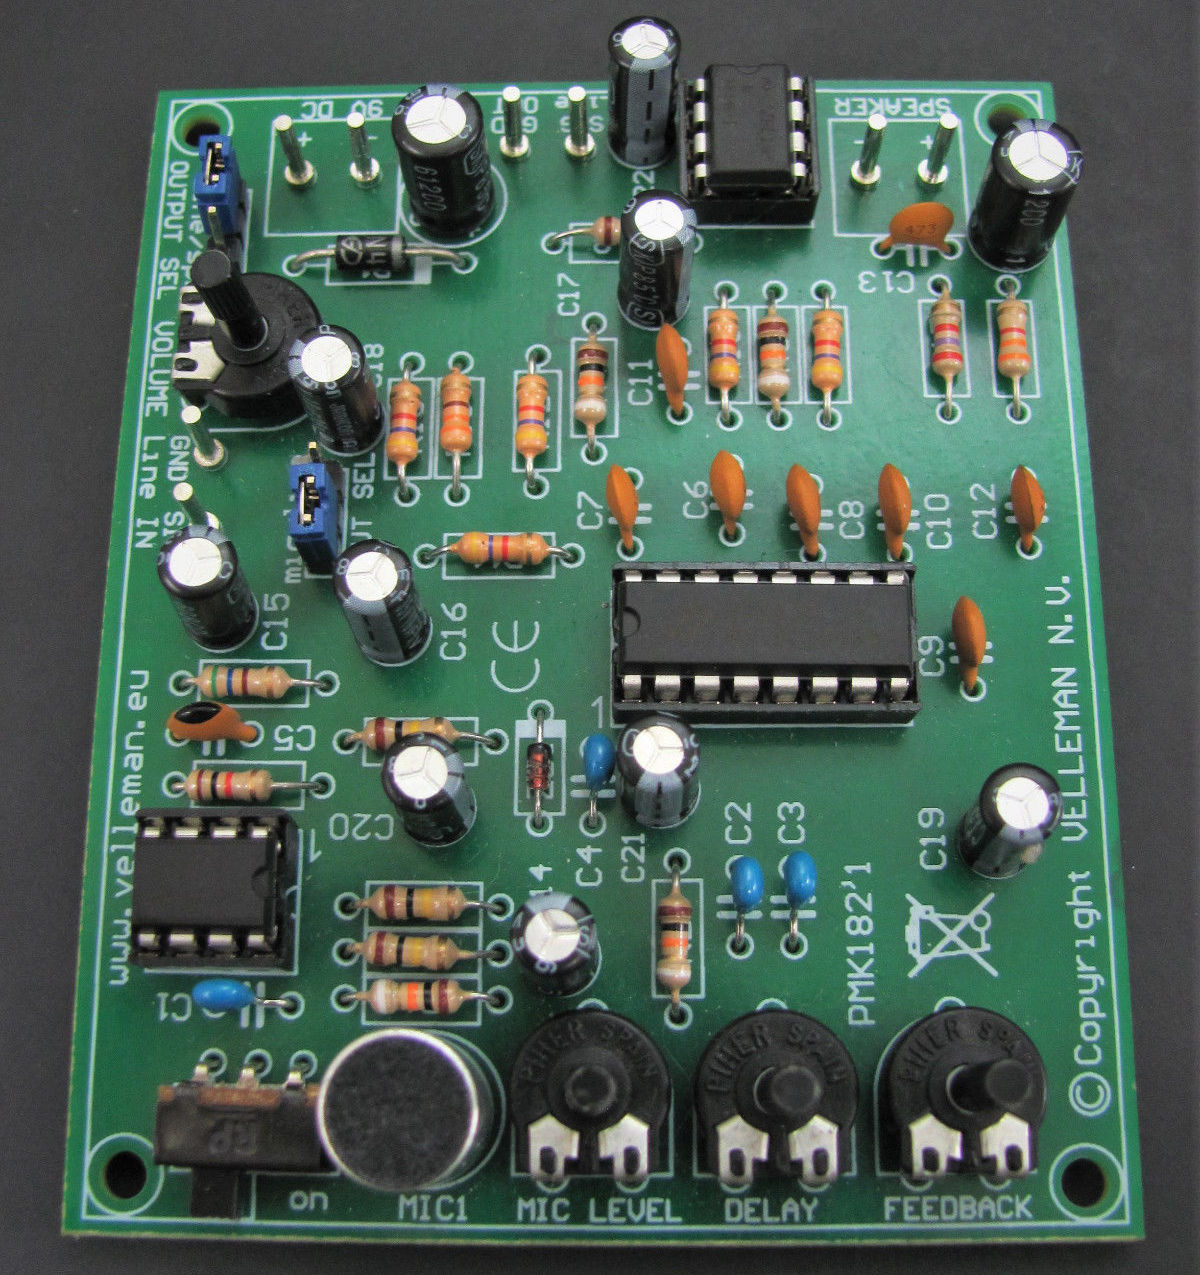Capacitor: (968, 116, 1083, 274), (389, 85, 495, 238), (328, 537, 434, 667), (284, 322, 386, 455), (155, 524, 261, 650), (954, 762, 1064, 883), (603, 14, 683, 169), (614, 186, 699, 329), (376, 729, 479, 847), (611, 714, 702, 834)
Diode: (329, 228, 416, 273), (521, 741, 556, 798)
Resistor: (364, 979, 475, 1022), (650, 889, 696, 994), (369, 879, 473, 924), (361, 929, 466, 973), (183, 763, 286, 806), (989, 298, 1036, 386), (383, 379, 427, 472), (450, 529, 554, 568), (806, 309, 850, 401), (923, 296, 969, 384), (361, 716, 466, 754), (195, 663, 295, 702), (435, 371, 479, 459), (705, 307, 745, 396), (514, 371, 552, 462), (573, 343, 611, 430), (755, 312, 791, 404), (586, 211, 626, 248)
